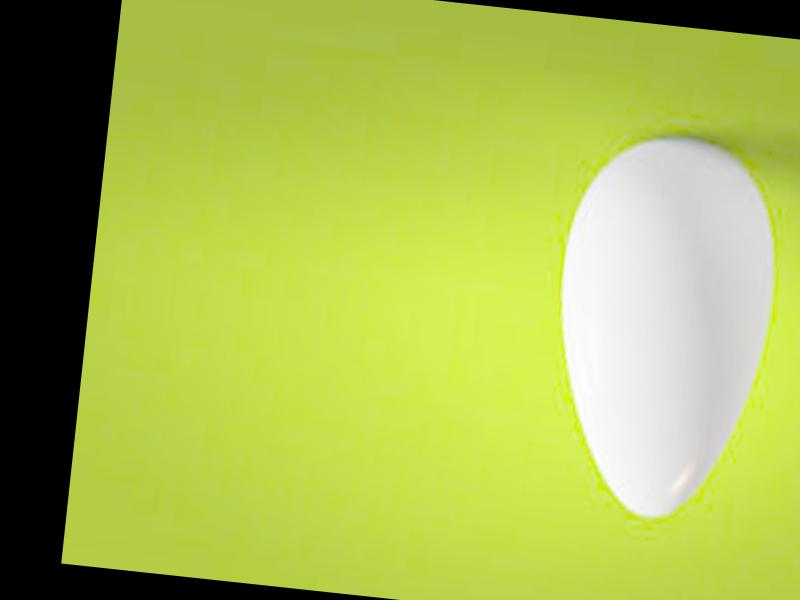Eggs: (538, 130, 786, 532)
